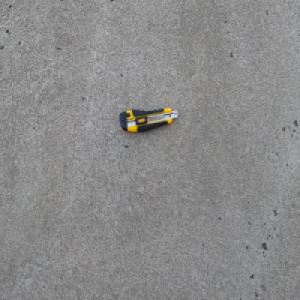Cutter: (118, 107, 178, 133)
